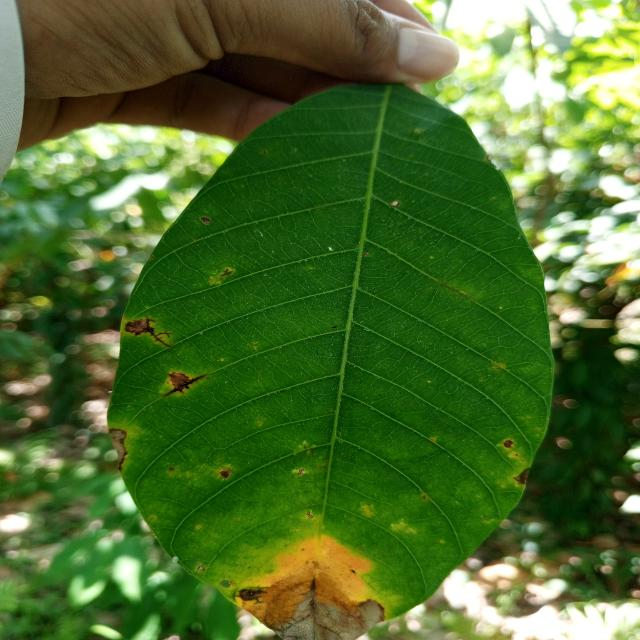Colletotrichum: (218, 580, 230, 588), (389, 200, 400, 208), (198, 565, 205, 571), (308, 515, 312, 518), (307, 511, 310, 515)
Corynespora: (125, 316, 173, 346), (164, 371, 208, 398), (232, 585, 271, 604)
Leaf-Blight: (272, 592, 384, 640), (108, 429, 128, 469)
